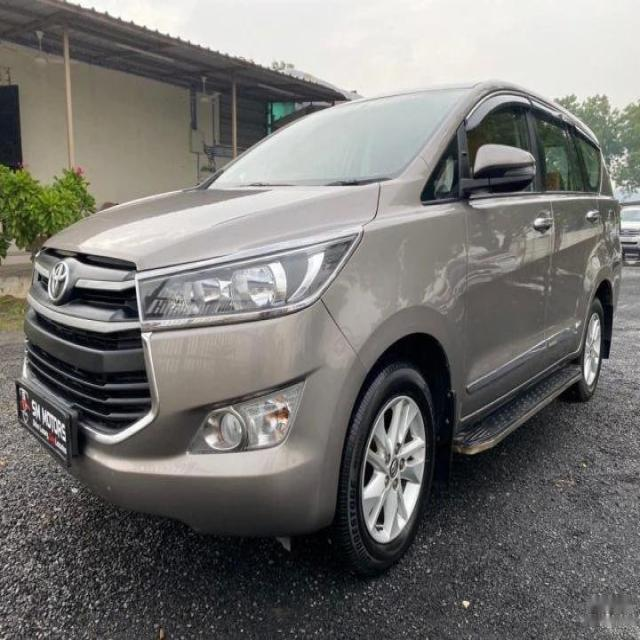light_vehicle: (15, 80, 624, 575)
